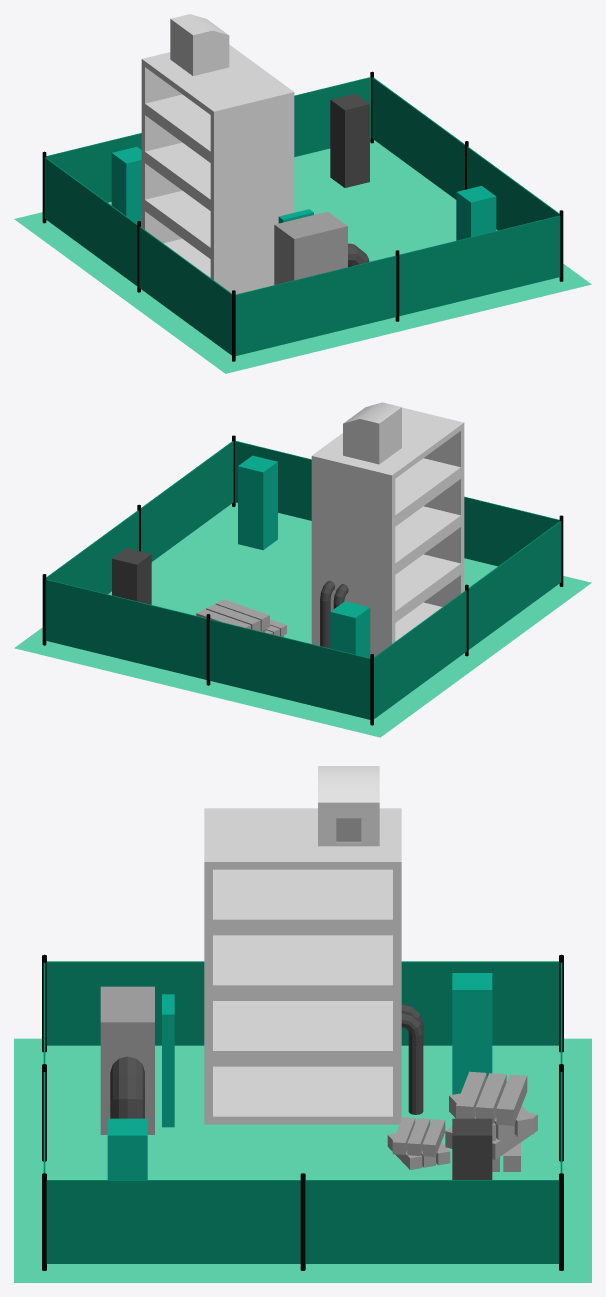
The model's file is 44_green.fbx.
3 views of the same model, one above another, from view 1: azimuth 30°, elevation 25°; view 2: azimuth 150°, elevation 25°; view 3: azimuth 270°, elevation 25° (orthographic). The views are drawn at different scales.
Parts seen in each view (by area): view 1: pCube229, pPlane2, pCube227, pCube228, pCube222, pCube217, pCube225, pCube233, pCube239, pCube226, pCube241, pCube224 (+3 smaller); view 2: pCube229, pPlane2, pCube223, pCube224, pCube217, pCube222, pCube226, pCube228, pCube238, pCube225, pCube241, pCube227 (+5 smaller); view 3: pCube229, pPlane2, pCube225, pCube226, pCube222, pCube217, pCube233, pCube241, pCube240, pCube239, pCube238, pCylinder44 (+5 smaller).
Boxes of the visible parts, left/top/right/bottom form: pCube229: left=141, top=44, right=294, bottom=294; pPlane2: left=14, top=139, right=591, bottom=373; pCube227: left=399, top=215, right=560, bottom=316; pCube228: left=235, top=255, right=396, bottom=355; pCube222: left=44, top=157, right=137, bottom=285; pCube217: left=139, top=226, right=231, bottom=355; pCube225: left=372, top=77, right=464, bottom=199; pCube233: left=274, top=211, right=347, bottom=284; pCube239: left=330, top=93, right=369, bottom=187; pCube226: left=467, top=147, right=559, bottom=230; pCube241: left=170, top=14, right=229, bottom=75; pCube224: left=294, top=77, right=370, bottom=156; pCube229: left=311, top=407, right=464, bottom=656; pPlane2: left=14, top=502, right=591, bottom=737; pCube223: left=209, top=619, right=370, bottom=719; pCube224: left=45, top=579, right=206, bottom=679; pCube217: left=468, top=521, right=561, bottom=649; pCube222: left=374, top=590, right=466, bottom=718; pCube226: left=141, top=441, right=233, bottom=561; pCube228: left=464, top=496, right=559, bottom=566; pCube238: left=238, top=455, right=277, bottom=549; pCube225: left=46, top=510, right=138, bottom=594; pCube241: left=343, top=402, right=401, bottom=464; pCube227: left=235, top=440, right=311, bottom=520; pCube229: left=204, top=808, right=401, bottom=1124; pPlane2: left=14, top=1038, right=591, bottom=1282; pCube225: left=305, top=1180, right=559, bottom=1263; pCube226: left=46, top=1180, right=300, bottom=1263; pCube222: left=401, top=961, right=559, bottom=1045; pCube217: left=46, top=961, right=204, bottom=1045; pCube233: left=100, top=986, right=154, bottom=1134; pCube241: left=318, top=766, right=379, bottom=846; pCube240: left=452, top=973, right=492, bottom=1094; pCube239: left=452, top=1118, right=492, bottom=1179; pCube238: left=107, top=1118, right=147, bottom=1179; pCylinder44: left=110, top=1056, right=144, bottom=1118.
Size of the model in its own units: 4 by 2.48 by 4.
